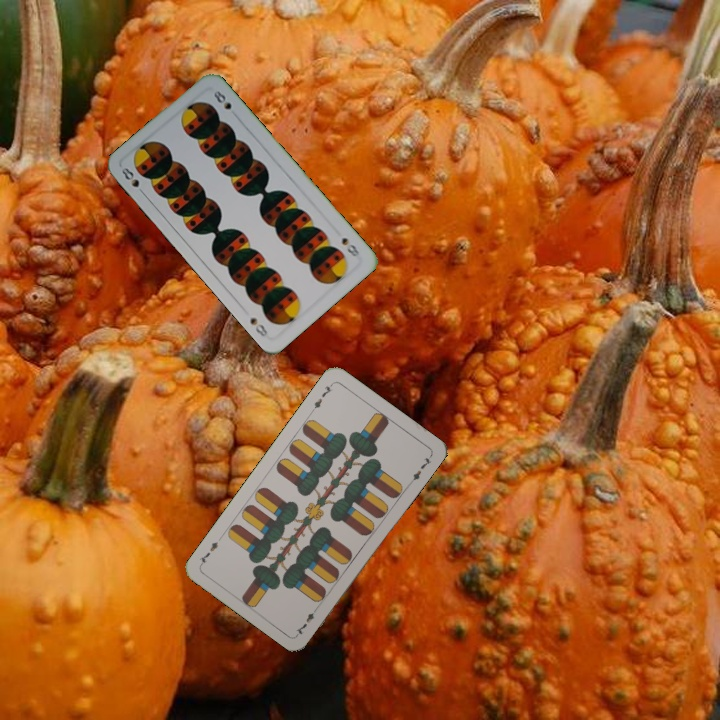E7: (292, 602, 321, 638), (307, 379, 335, 415)
S8: (117, 163, 148, 198), (338, 233, 362, 259)
